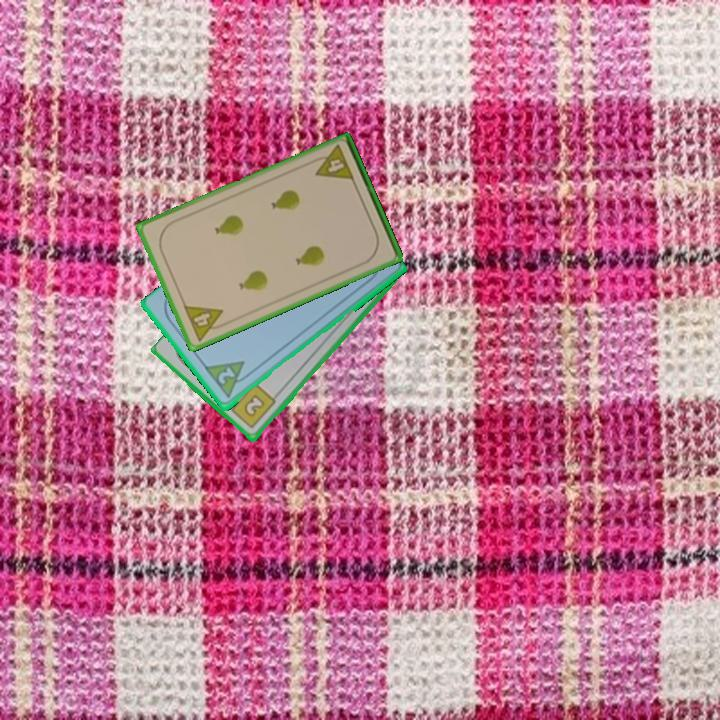2b: (224, 380, 279, 432)
2p: (214, 364, 238, 388)
4p: (307, 141, 357, 184), (180, 302, 231, 344)
